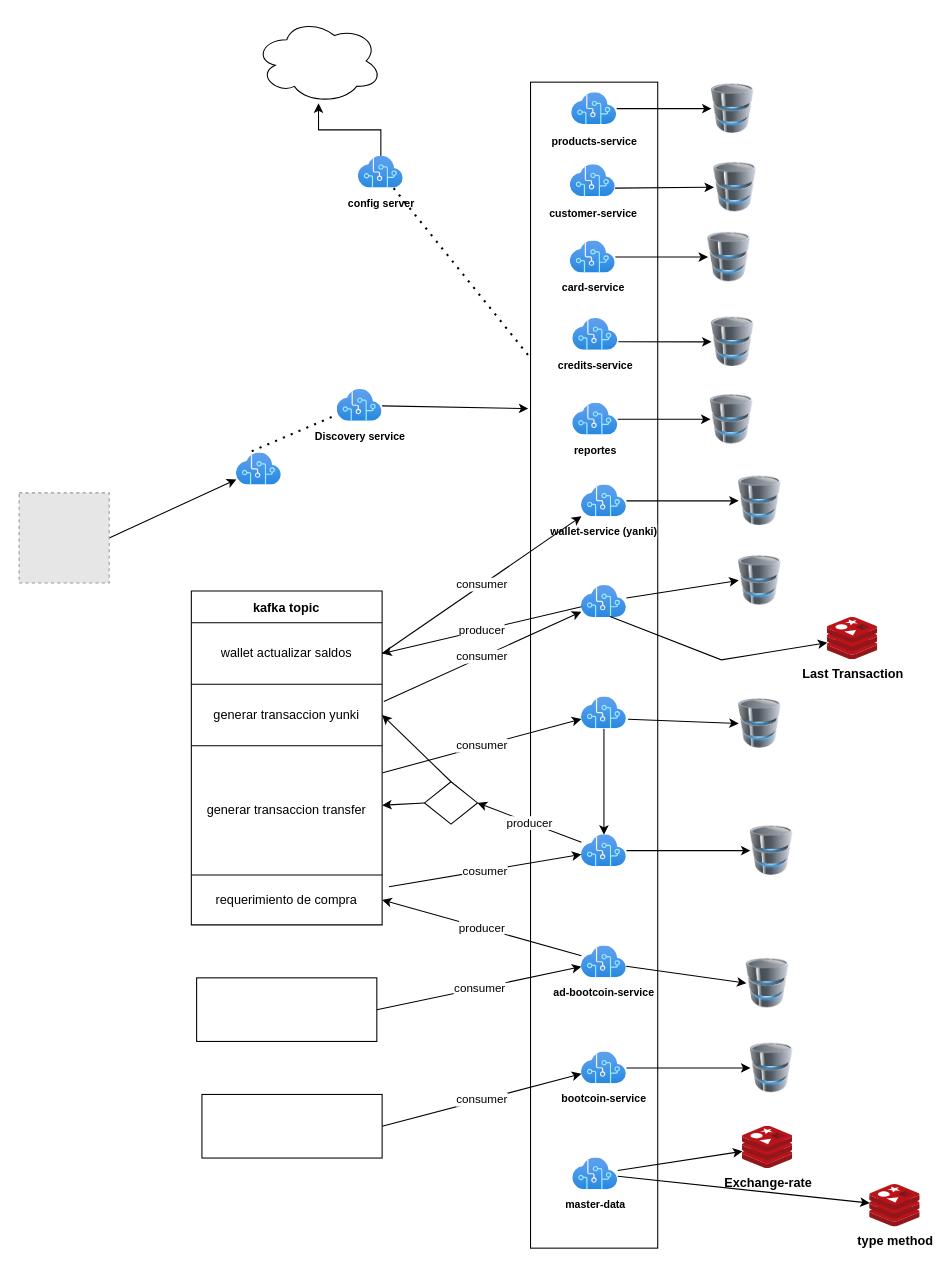
This 951x1268 diagram has some shape labels left out. Grey dashed boxes stand in for pictures. The shapes that lost their labels are listed below. From the top down, each one's centre as x and y in pixels, then its label:
point (318, 60): repository config
point (258, 468): Api gateway
point (603, 601): transaction yanki service
point (603, 712): account-service
point (450, 802): metodo
point (603, 850): exchange-bootcoin
point (286, 1009): topico de aceptacion de aceptar (extra) ad set status close
point (291, 1125): topico de respuesta de yunqui o transferecia transferencia de bootcoin
